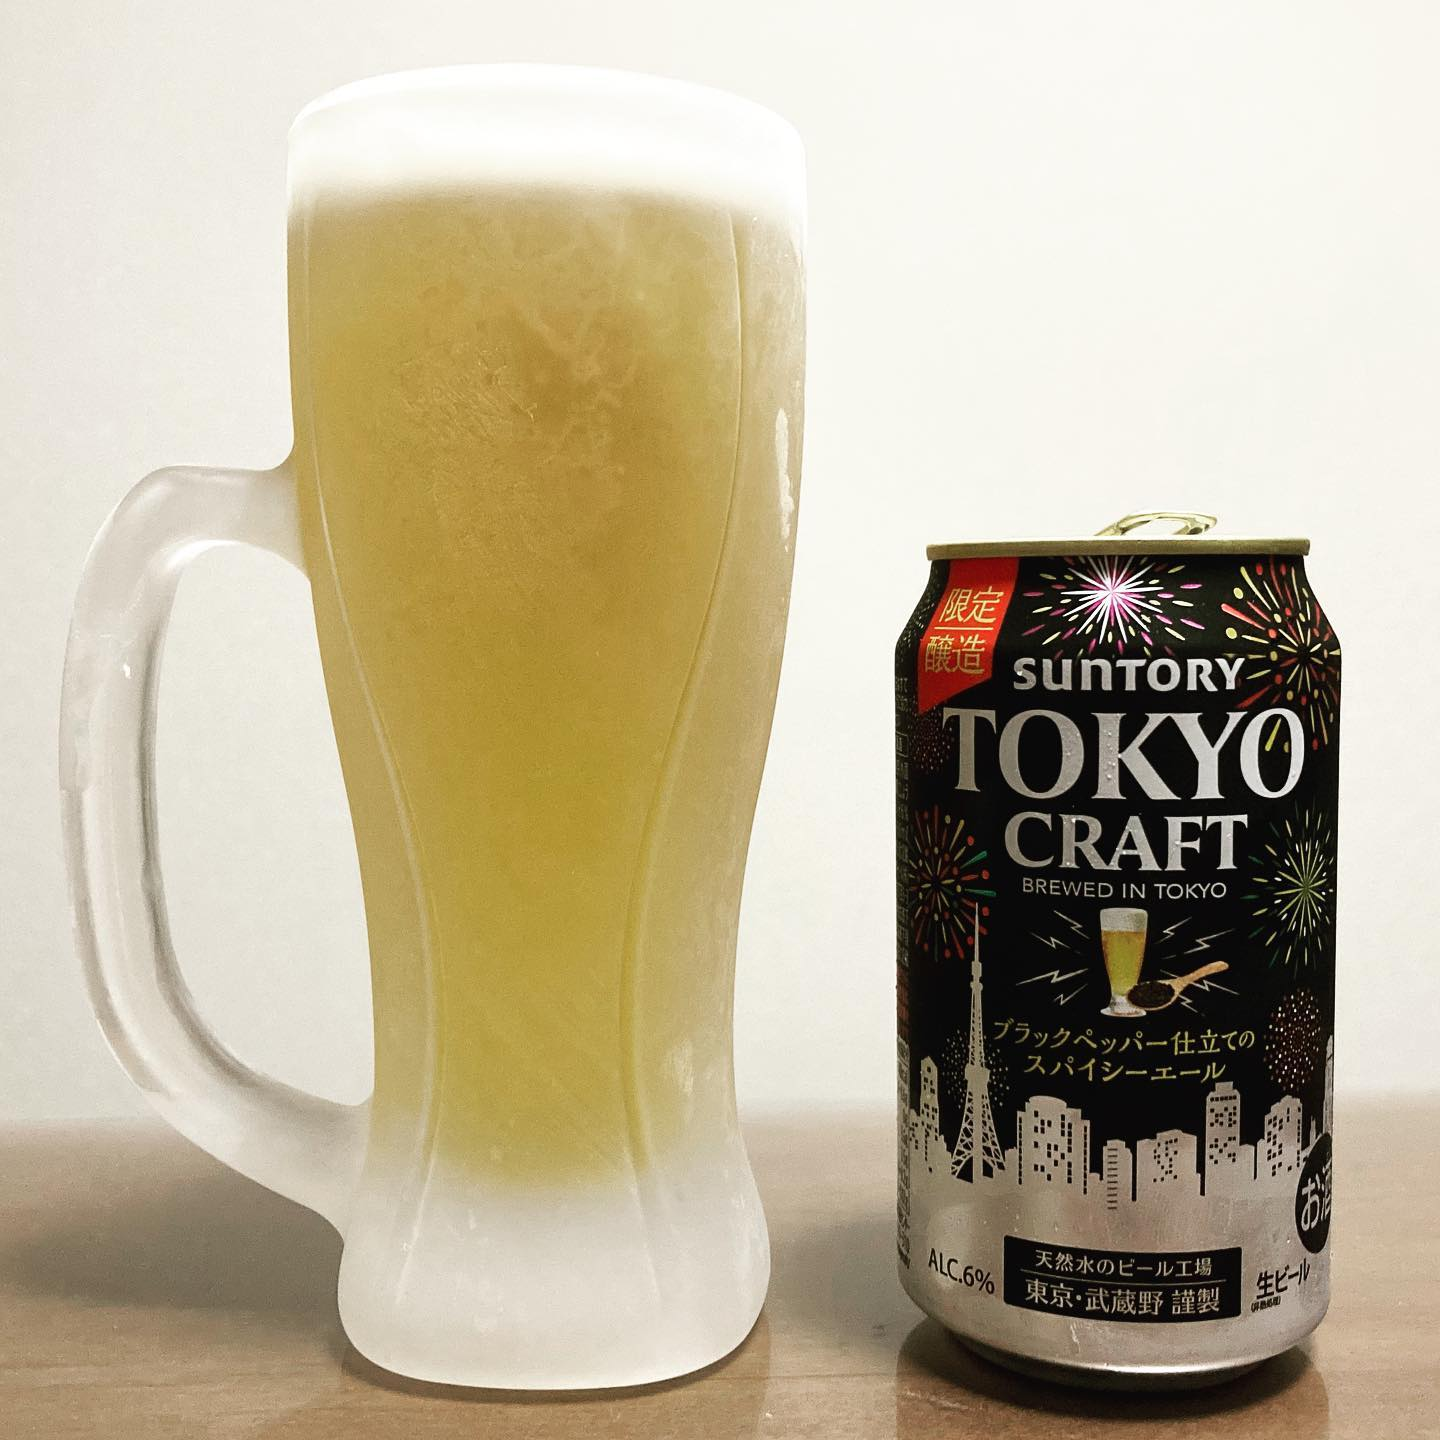alcohol: (276, 47, 814, 1403), (886, 502, 1352, 1408)
